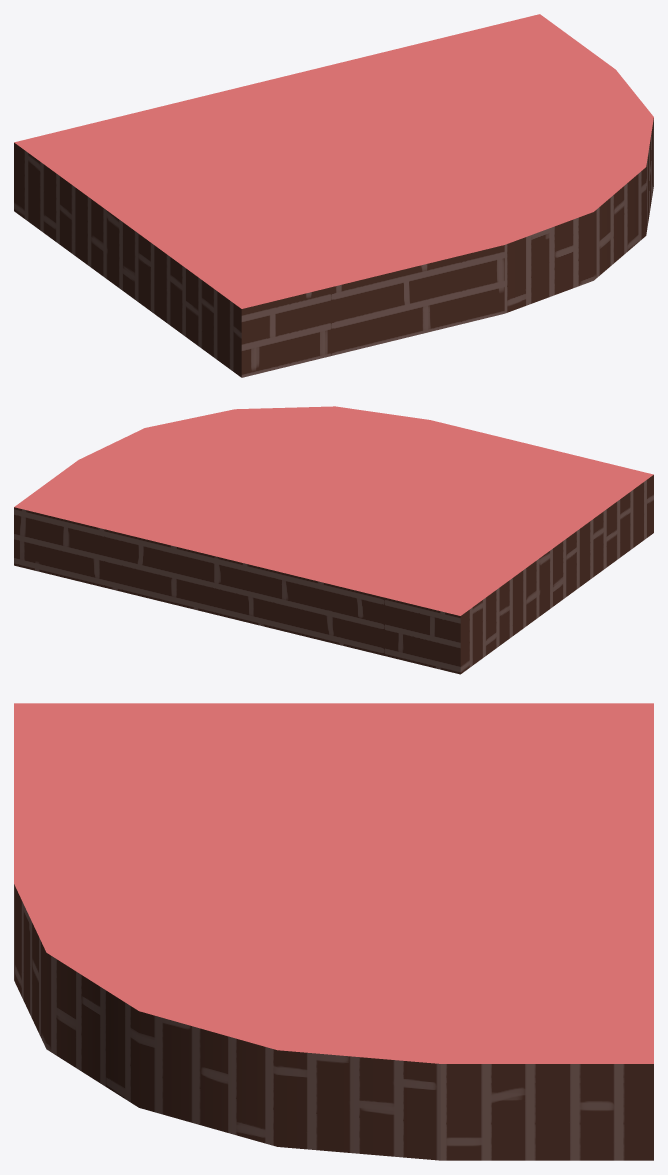
File: floor2.FBX
The picture shows the model from 3 angles, top to bottom: view 1: azimuth 30°, elevation 25°; view 2: azimuth 150°, elevation 25°; view 3: azimuth 270°, elevation 25°; orthographic projection. The views are drawn at different scales.
Parts seen in each view (by area): view 1: floor2; view 2: floor2; view 3: floor2.
Boxes of the visible parts, bbox=[...] form: floor2: bbox=[14, 14, 653, 377]; floor2: bbox=[14, 406, 653, 674]; floor2: bbox=[14, 703, 653, 1160].
Bounding box in the file's own units: 400 × 50 × 300.
Materials: 3 (1 with a texture image).
